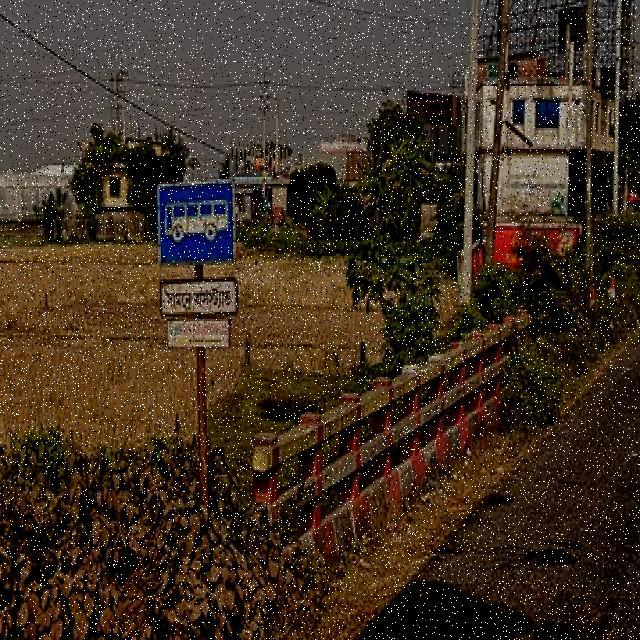Ahead-the-bus-station: (151, 176, 250, 366)
